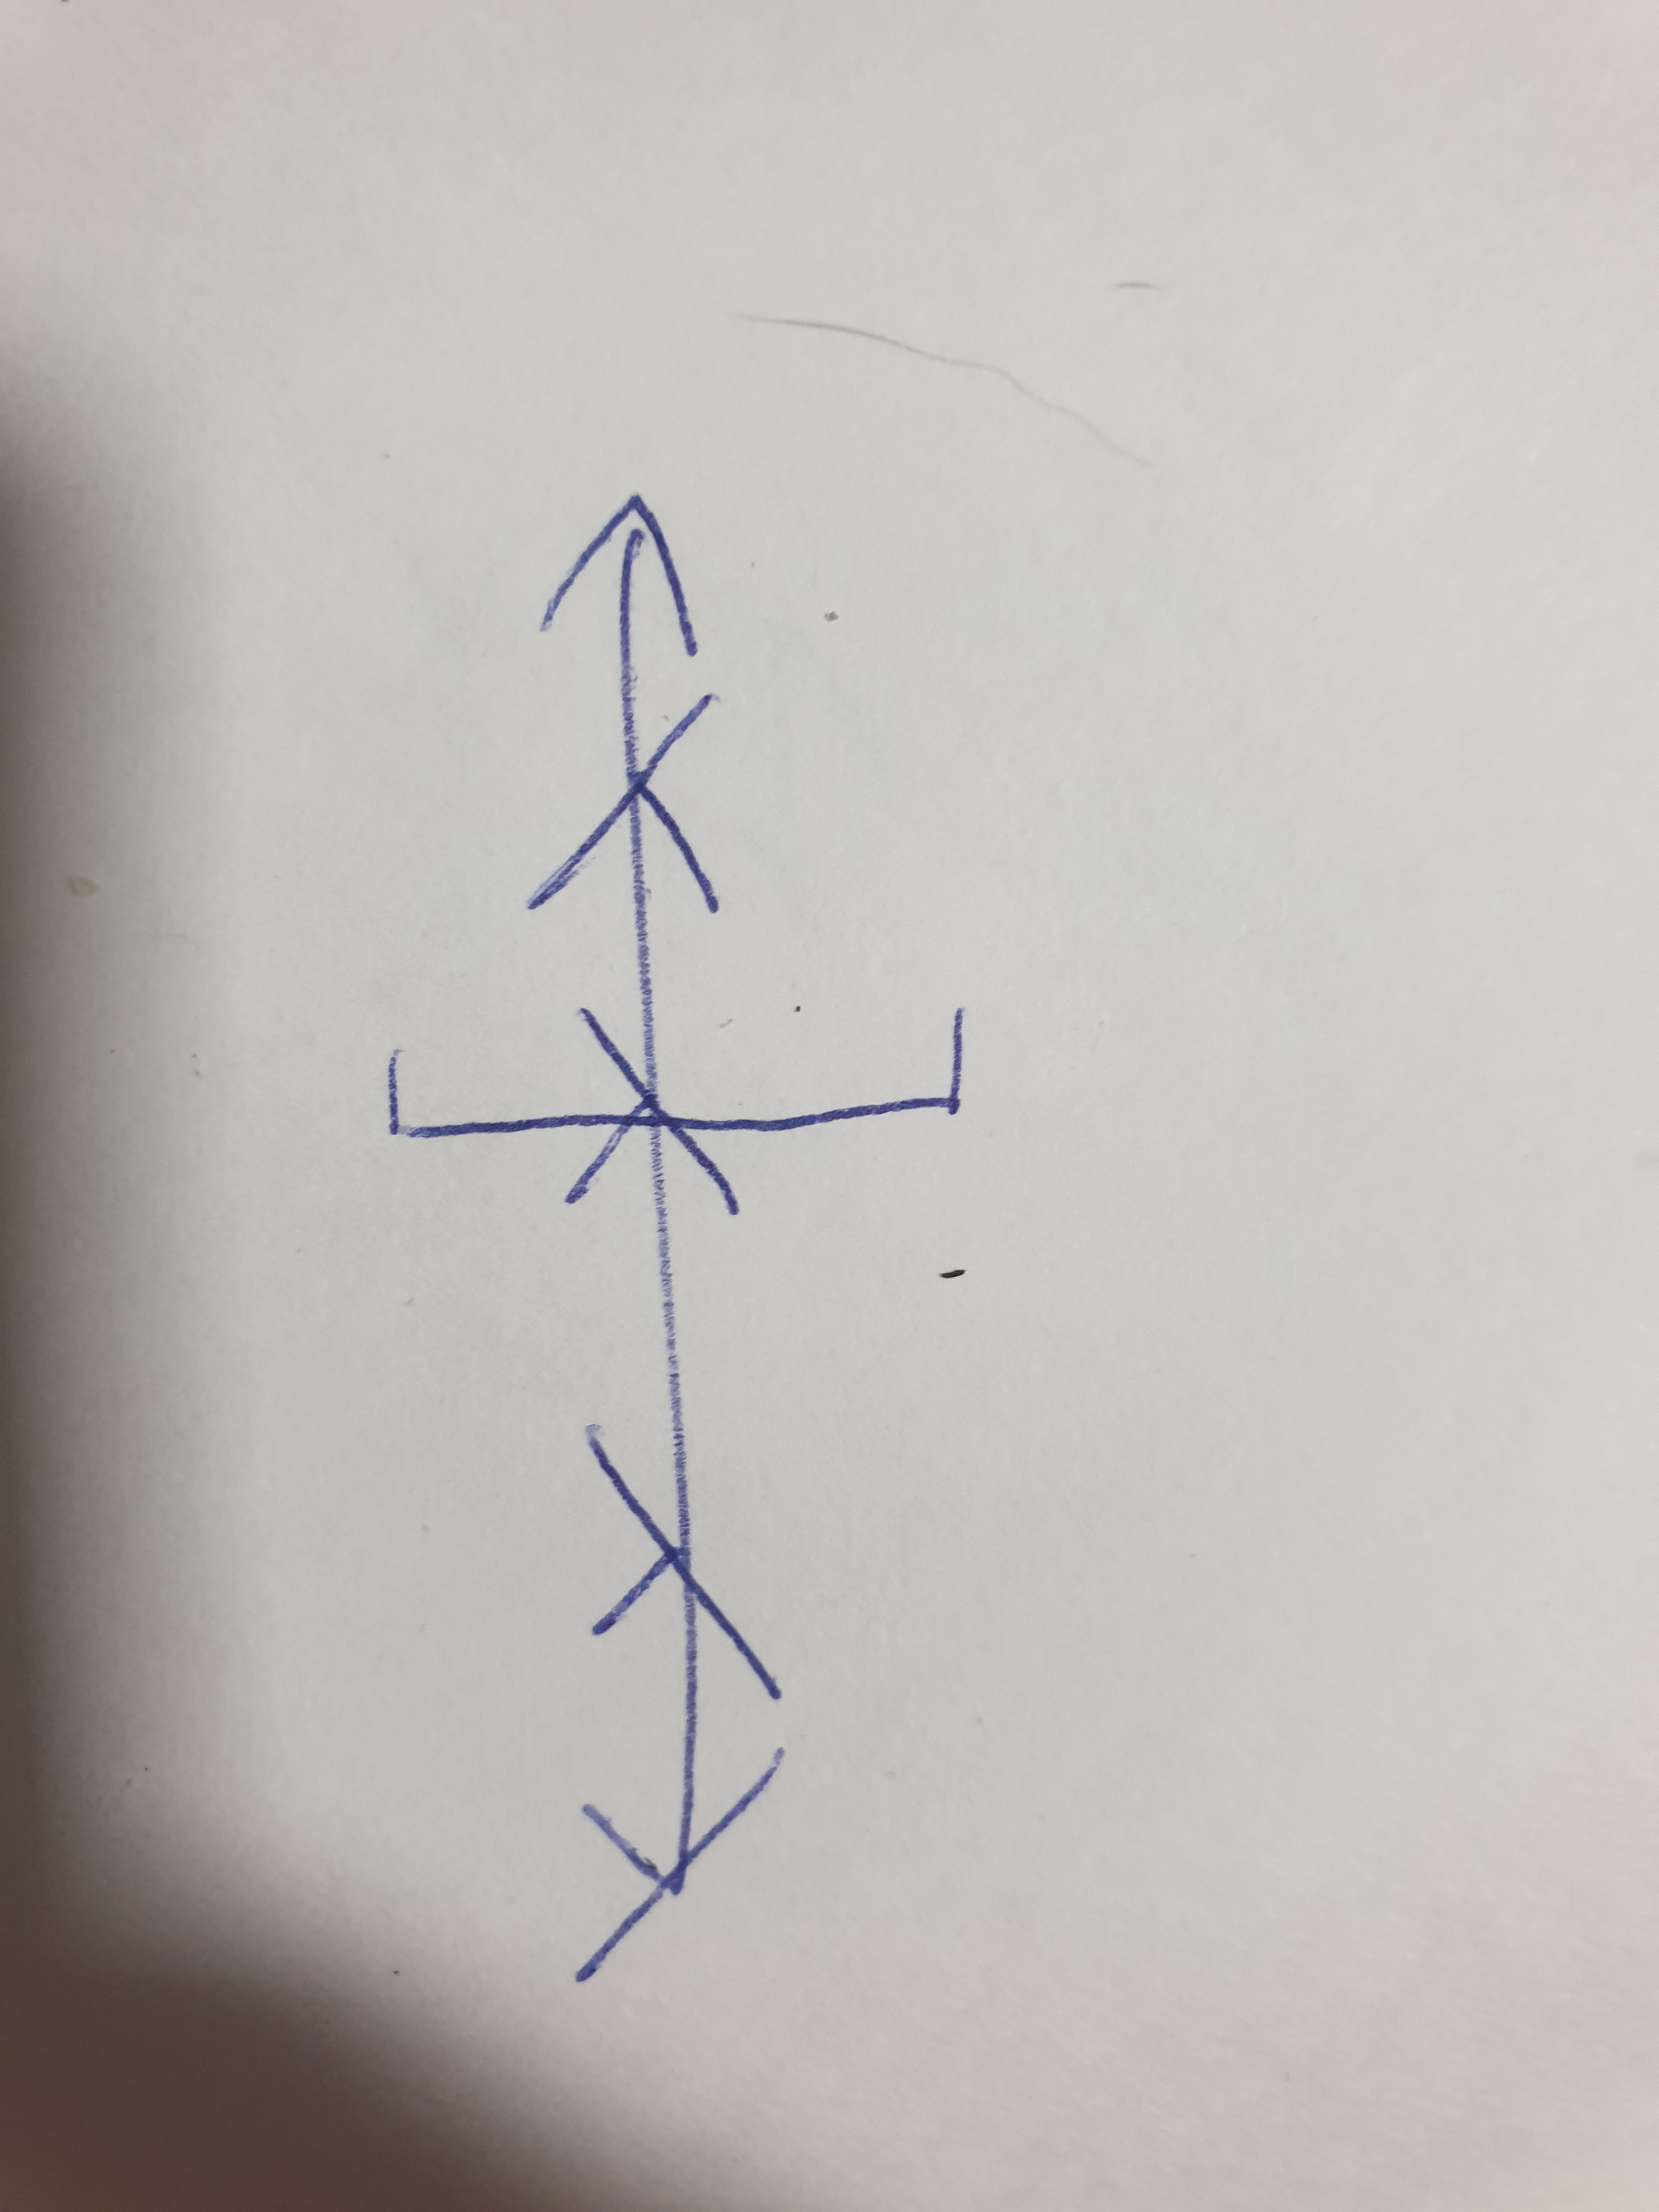Bar: (525, 493, 786, 1986)
Barcode: (387, 491, 965, 1987)
End: (690, 1010, 964, 1134)
Start: (383, 1052, 603, 1141)
